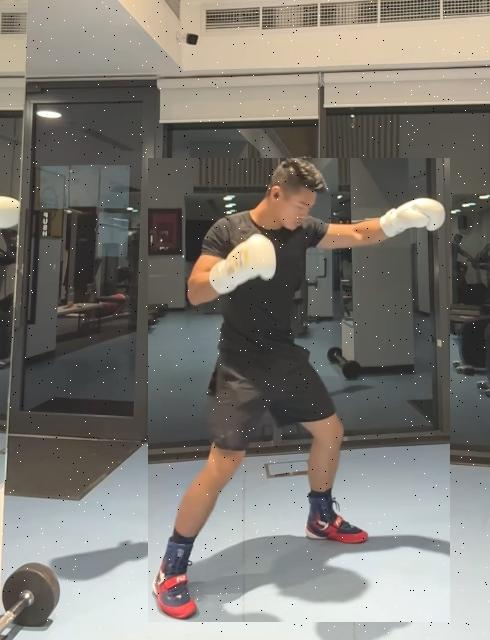punch: (148, 158, 450, 622)
